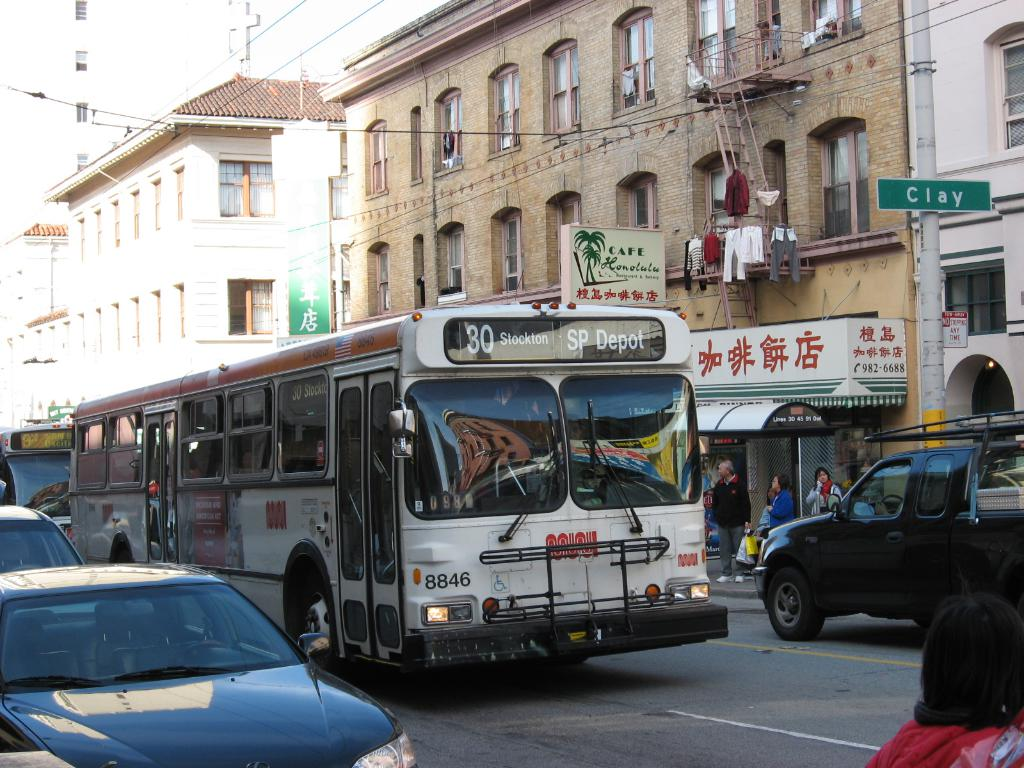Bus: (69, 297, 729, 674), (0, 419, 74, 540)
